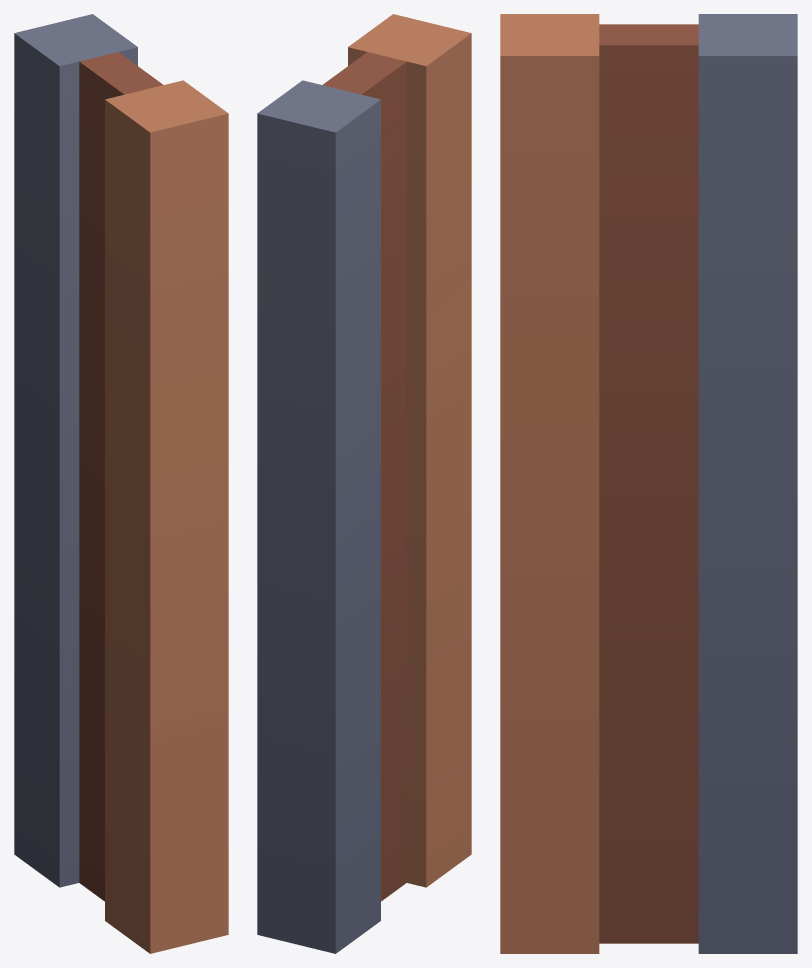
The model's file is kenney-fantasy-town-wall-wood-arch.glb.
The picture shows the model from 3 angles, left to right: view 1: azimuth 30°, elevation 25°; view 2: azimuth 150°, elevation 25°; view 3: azimuth 270°, elevation 25°; orthographic projection. The views are drawn at different scales.
Visible parts, largest first — view 1: wall-wood-arch; view 2: wall-wood-arch; view 3: wall-wood-arch.
Boxes of the visible parts, x1,y1,x2,y2 form: wall-wood-arch: (14, 14, 228, 953); wall-wood-arch: (257, 14, 471, 953); wall-wood-arch: (500, 14, 797, 953).
Bounding box in the file's own units: 0.1 × 1 × 0.3.
1 material, 1 textured.
